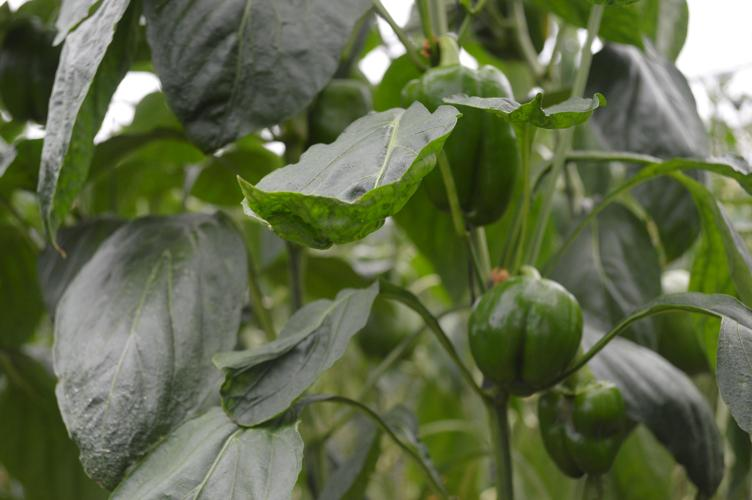BellPepper: (400, 61, 525, 237), (474, 265, 584, 385), (537, 381, 642, 497)
